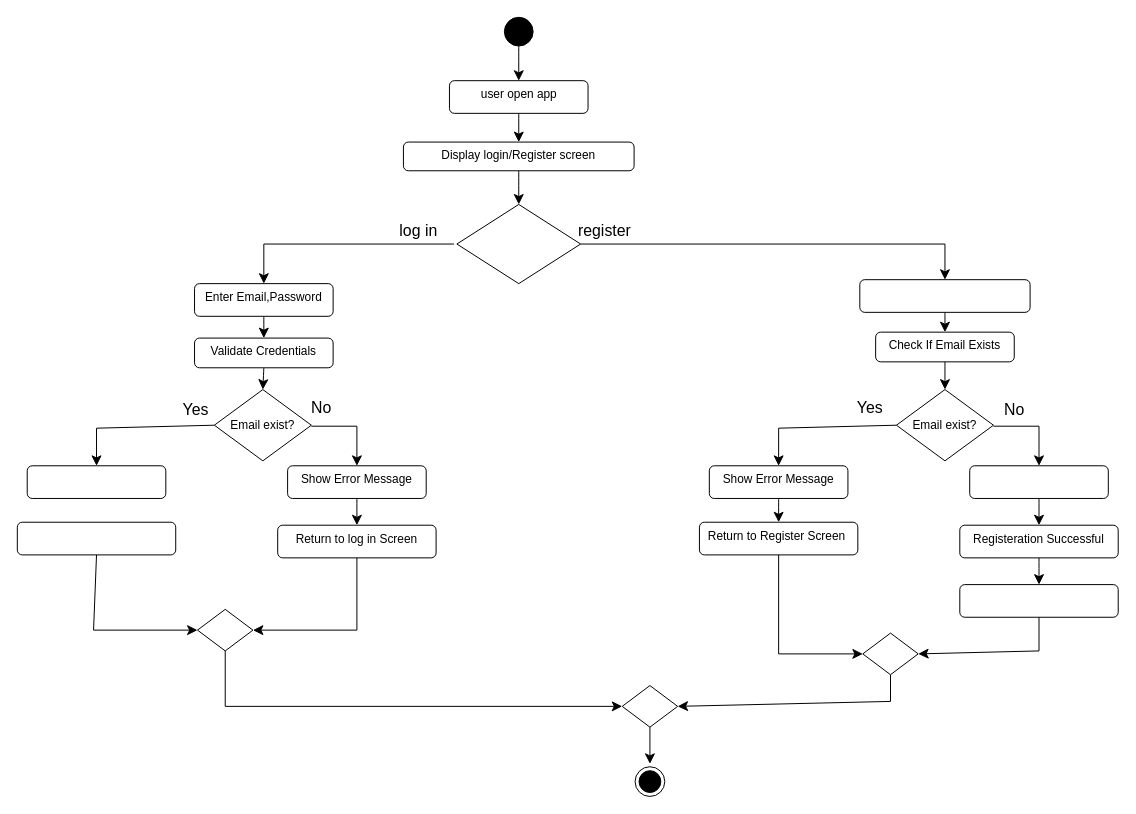
The diagram is 1136 pixels wide and 814 high, and some of its shapes have lost their labels. The shapes that lost their labels are listed below. From the top down, each one's centre as x and y in pixels, then its label:
At (518,243): "user select login?".
At (944,295): "Enter Name,Email,password".
At (96,481): "Log in successful".
At (1038,481): "Create Account".
At (96,538): "Go to Home Screen".
At (1038,600): "Redirect to Home Screen".
